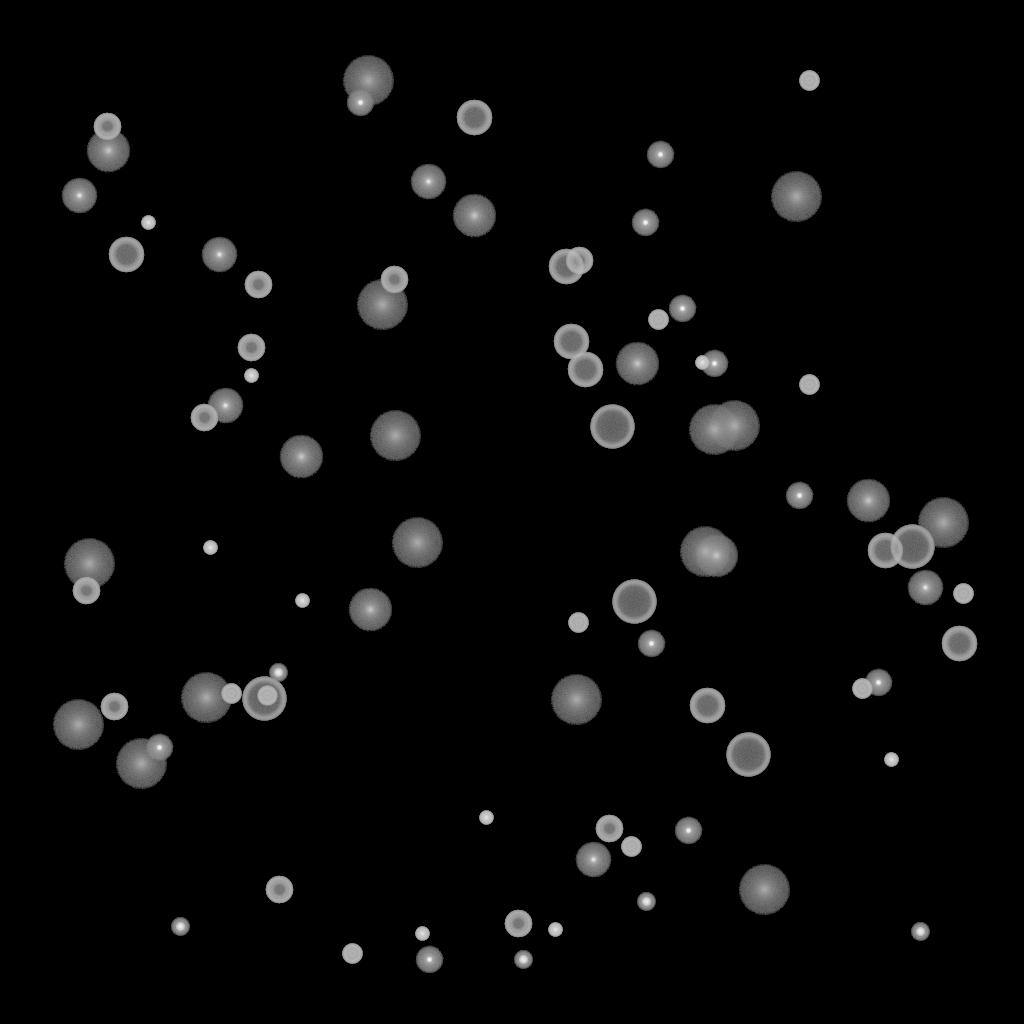depth:-10: (415, 946, 443, 974), (631, 209, 659, 237), (637, 630, 665, 658), (864, 669, 892, 697), (700, 350, 728, 378), (674, 817, 702, 845), (668, 295, 696, 323), (785, 482, 813, 510), (646, 141, 674, 169), (346, 89, 374, 117), (145, 734, 173, 762)
depth:-20: (911, 923, 929, 941), (514, 951, 532, 969), (171, 918, 189, 936), (269, 664, 287, 682), (637, 893, 655, 911)
depth:-30: (479, 811, 493, 825), (415, 927, 429, 941), (141, 216, 155, 230), (695, 356, 709, 370), (203, 541, 217, 555), (244, 369, 258, 383), (884, 753, 898, 767), (548, 923, 562, 937), (295, 594, 309, 608)
depth:-40: (852, 679, 872, 699), (568, 613, 588, 633), (257, 686, 277, 706), (799, 71, 819, 91), (221, 684, 241, 704), (621, 837, 641, 857), (342, 944, 362, 964), (953, 584, 973, 604), (799, 375, 819, 395), (648, 310, 668, 330)
depth:-50: (380, 266, 408, 294), (93, 113, 121, 141), (265, 876, 293, 904), (244, 271, 272, 299), (237, 334, 265, 362), (565, 247, 593, 275), (100, 693, 128, 721), (595, 815, 623, 843), (504, 910, 532, 938), (190, 404, 218, 432), (72, 577, 100, 605)
depth:-60: (941, 626, 977, 662), (456, 100, 492, 136), (553, 324, 589, 360), (689, 688, 725, 724), (548, 249, 584, 285), (867, 533, 903, 569), (567, 352, 603, 388), (108, 237, 144, 273)
depth:-70: (726, 733, 770, 777), (612, 580, 656, 624), (890, 525, 934, 569), (590, 405, 634, 449), (242, 677, 286, 721)
depth:0: (61, 178, 97, 214), (575, 842, 611, 878), (207, 388, 243, 424), (201, 237, 237, 273), (907, 570, 943, 606), (410, 164, 446, 200)
depth:10: (846, 479, 890, 523), (615, 342, 659, 386), (86, 129, 130, 173), (694, 534, 738, 578), (348, 588, 392, 632), (452, 194, 496, 238), (279, 435, 323, 479)
depth:20: (369, 411, 421, 461), (356, 280, 408, 330), (52, 700, 104, 750), (342, 56, 394, 106), (391, 518, 443, 568), (550, 675, 602, 725), (679, 527, 731, 577), (115, 739, 167, 789), (917, 498, 969, 548), (738, 865, 790, 915), (688, 405, 740, 455), (708, 401, 760, 451), (63, 539, 115, 589), (180, 673, 232, 723), (770, 172, 822, 222)
